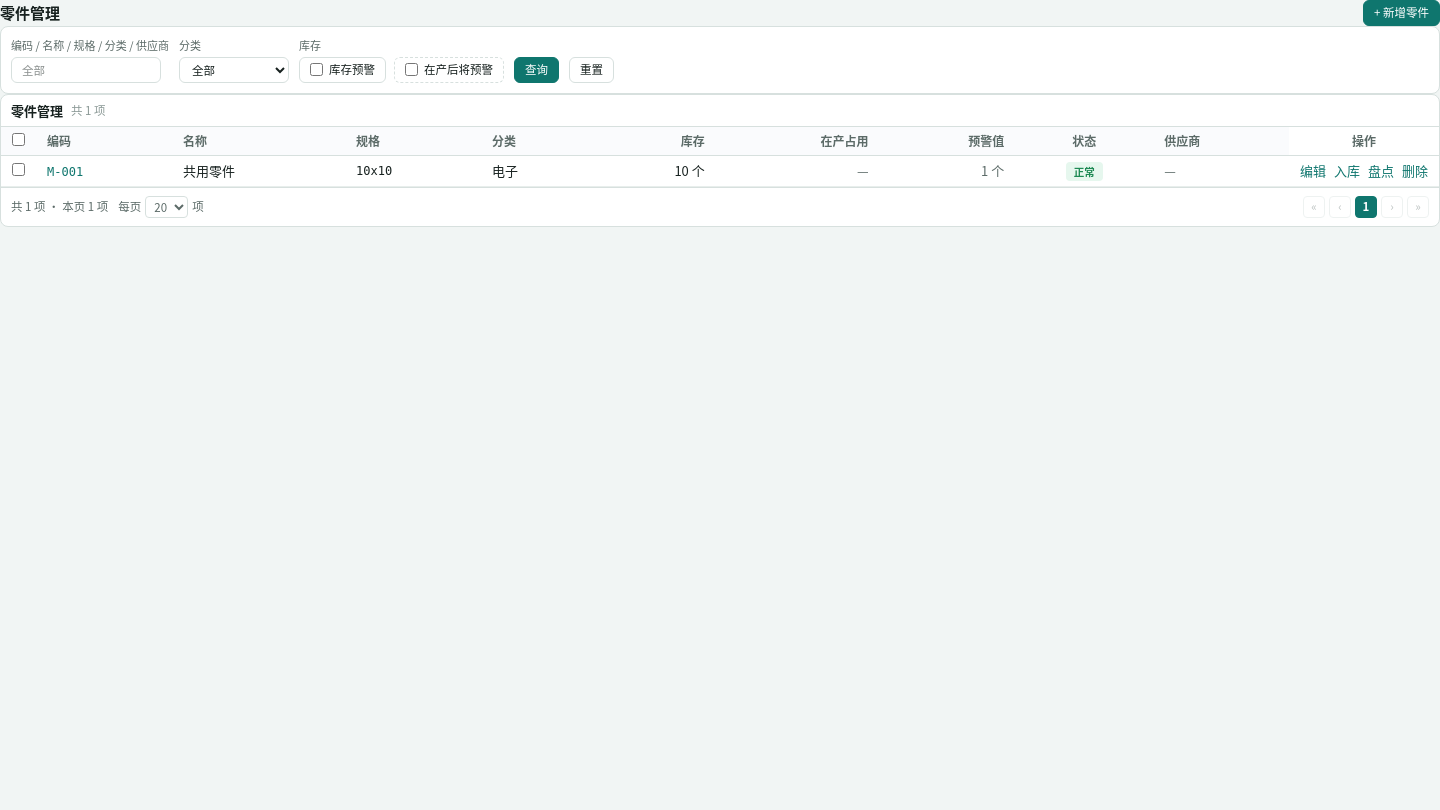
it: explains production traces and suggests deactivating instead
The width and height of the screenshot is (1440, 810).
Click the button "删除" at (1415, 171), box [1402,161,1428,181]
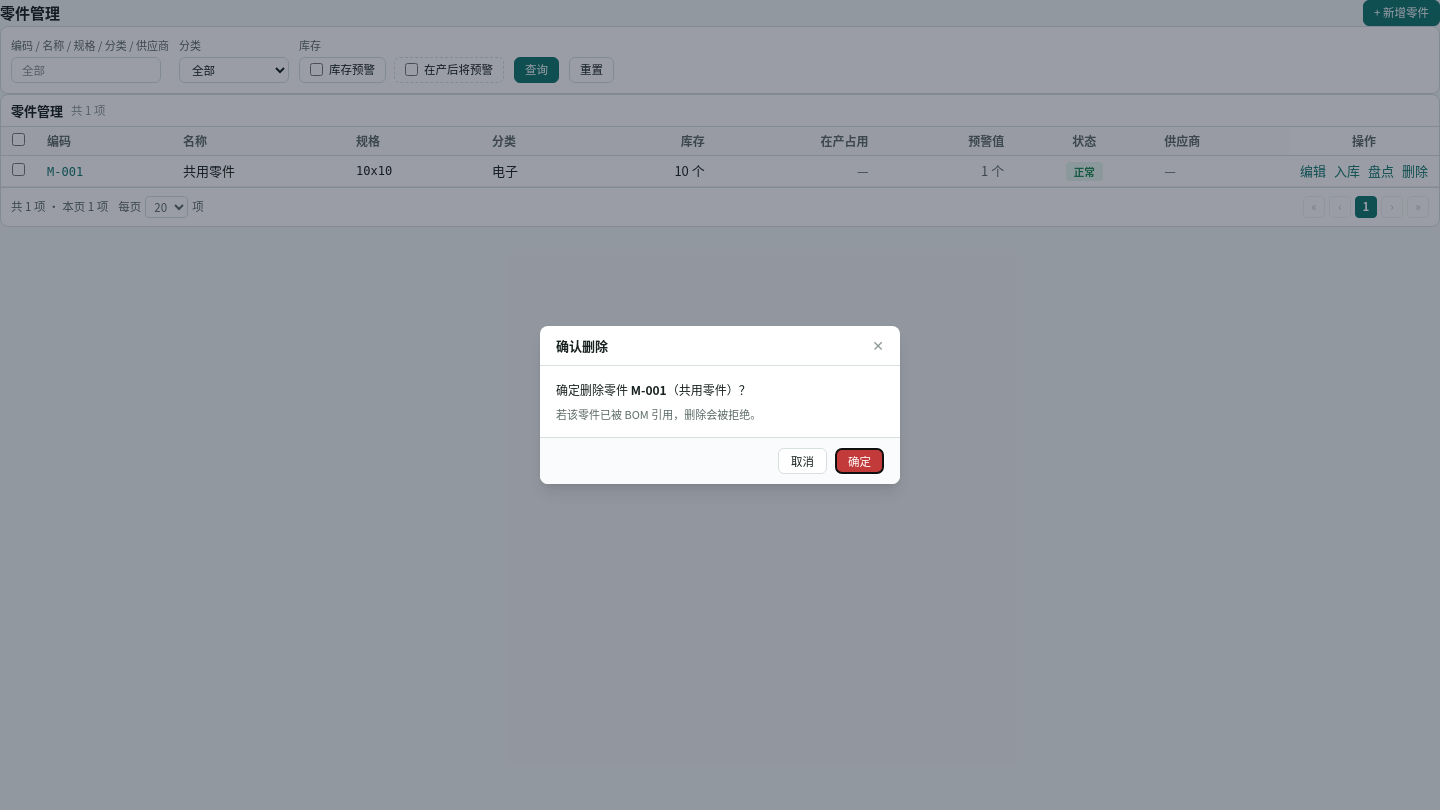
Click the button "确定" at (860, 461), box [835,448,884,474]
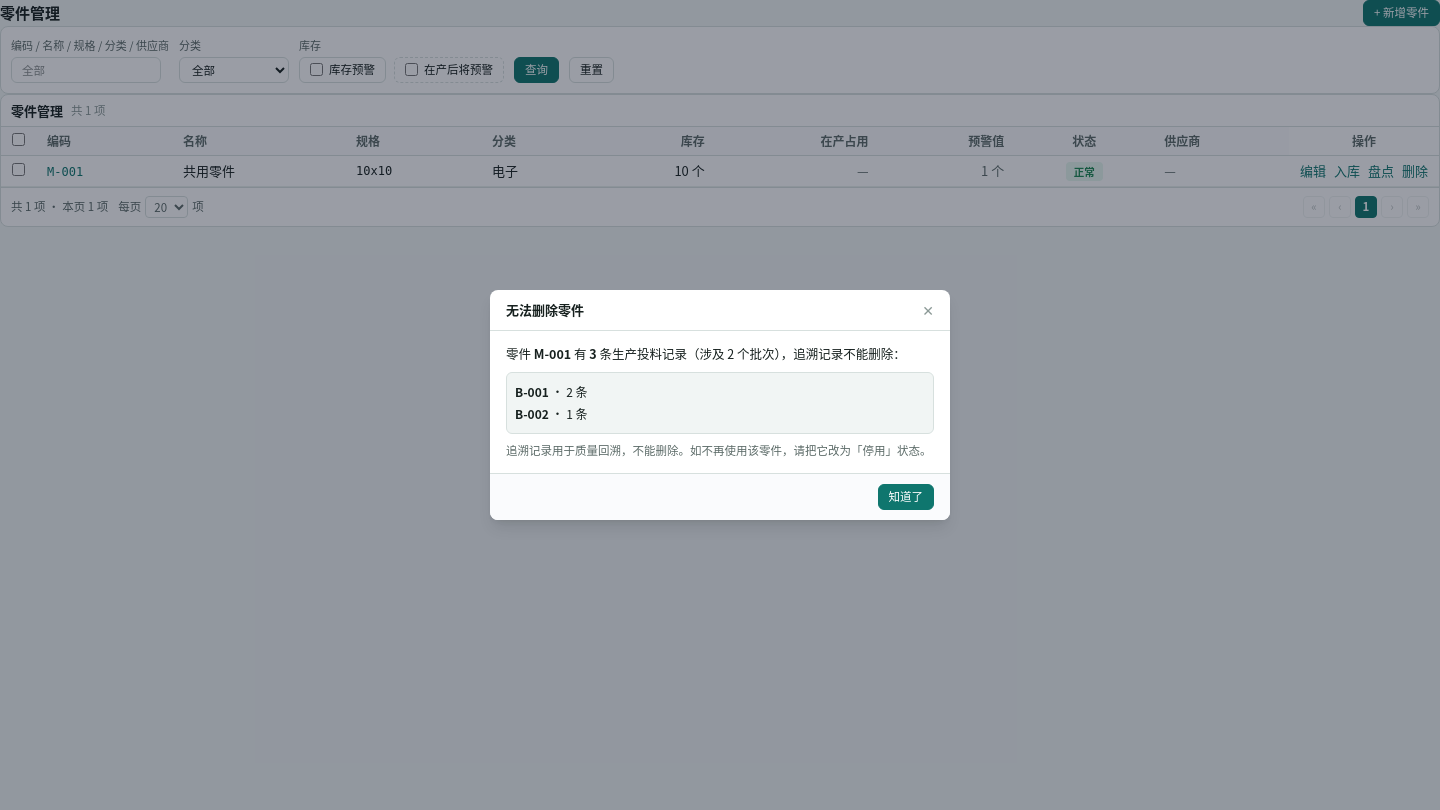
Now the list named "引用该零件的批次" shows "B-001", box [515,382,549,400]
Now the list named "引用该零件的批次" shows "2 条", box [506,372,934,434]
Now the list named "引用该零件的批次" shows "B-002", box [515,404,549,422]
